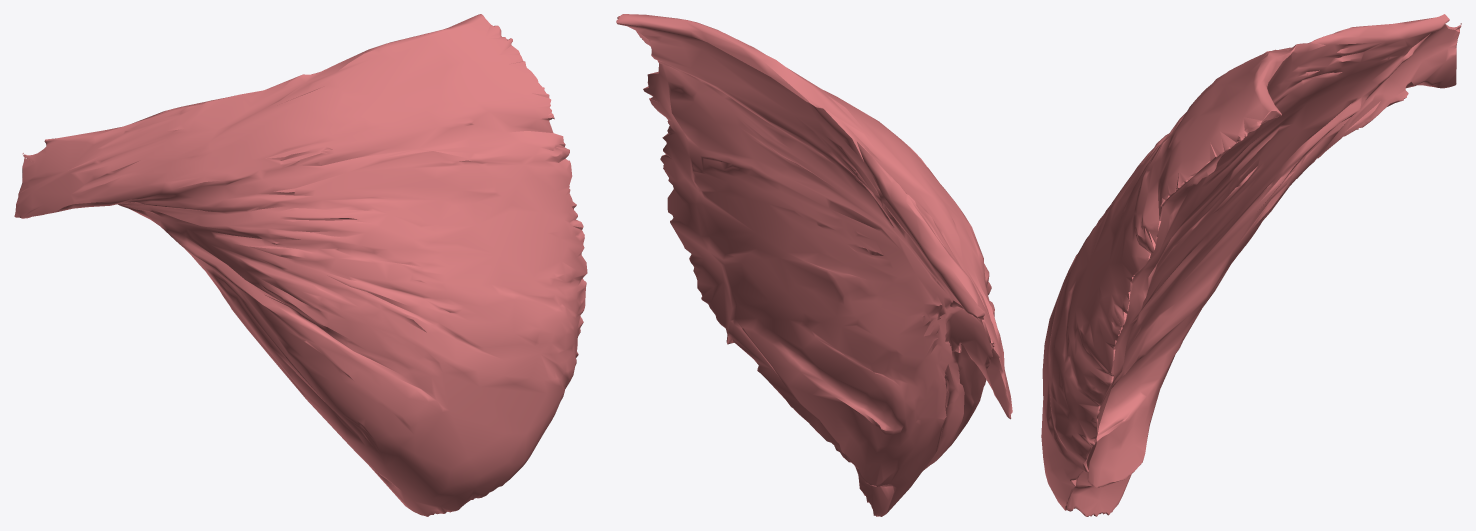
The picture shows the model from 3 angles, left to right: view 1: azimuth 30°, elevation 25°; view 2: azimuth 150°, elevation 25°; view 3: azimuth 270°, elevation 25°; orthographic projection. The views are drawn at different scales.
Parts seen in each view (by area): view 1: FJ1464; view 2: FJ1464; view 3: FJ1464.
Boxes of the visible parts, x1,y1,x2,y2 form: FJ1464: [14, 14, 587, 516]; FJ1464: [616, 14, 1012, 516]; FJ1464: [1041, 14, 1461, 516].
Size of the model in its own units: 0.1821 by 0.1723 by 0.1376.
